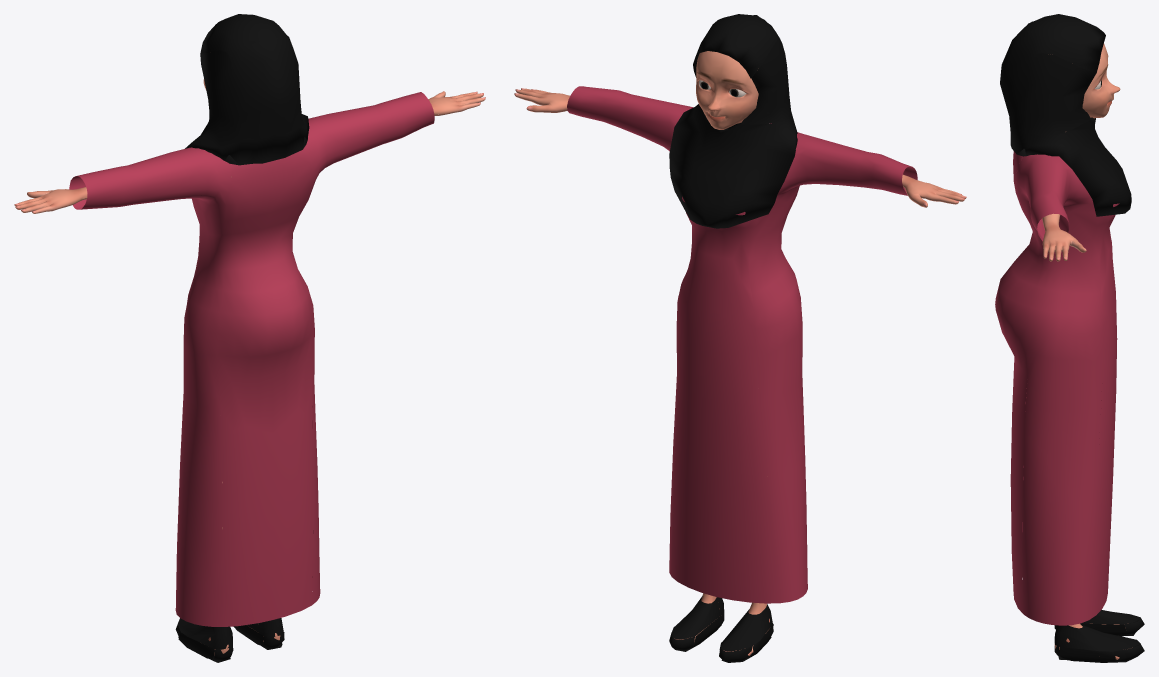
The model's file is woman-hijab-abaya.glb.
The picture shows the model from 3 angles, left to right: view 1: azimuth 30°, elevation 25°; view 2: azimuth 150°, elevation 25°; view 3: azimuth 270°, elevation 25°; orthographic projection. The views are drawn at different scales.
Visible parts, largest first — view 1: body; view 2: body; view 3: body.
Boxes of the visible parts, x1=… form: body: x1=14, y1=14, x2=485, y2=662; body: x1=514, y1=14, x2=966, y2=662; body: x1=995, y1=14, x2=1144, y2=662.
Bounding box in the file's own units: 1.27 × 1.65 × 0.3568.
1 material, 1 textured.
